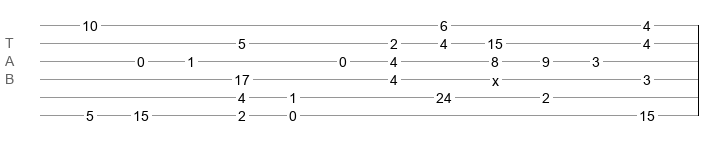0: (137, 54, 145, 64), (289, 108, 297, 118), (339, 54, 347, 64)
1: (187, 54, 195, 64), (289, 90, 297, 100)
10: (82, 18, 98, 28)
15: (133, 108, 149, 118), (487, 36, 503, 46), (639, 108, 655, 118)
17: (234, 72, 250, 82)
2: (238, 108, 246, 118), (390, 36, 398, 46), (542, 90, 550, 100)
24: (436, 90, 452, 100)
3: (592, 54, 600, 64), (643, 72, 651, 82)
4: (238, 90, 246, 100), (390, 54, 398, 64), (390, 72, 398, 82), (440, 36, 448, 46), (643, 18, 651, 28), (643, 36, 651, 46)
5: (86, 108, 94, 118), (238, 36, 246, 46)
6: (440, 18, 448, 28)
8: (491, 54, 499, 64)
9: (542, 54, 550, 64)
x: (492, 73, 499, 81)
